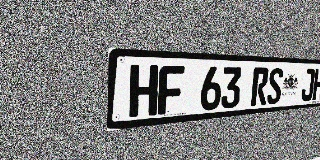3: (221, 67, 242, 109)
6: (200, 66, 223, 111)
F: (158, 65, 184, 115)
H: (129, 65, 158, 118), (312, 69, 320, 100)
J: (301, 68, 315, 101)
R: (251, 67, 269, 106)
S: (266, 68, 283, 105)
